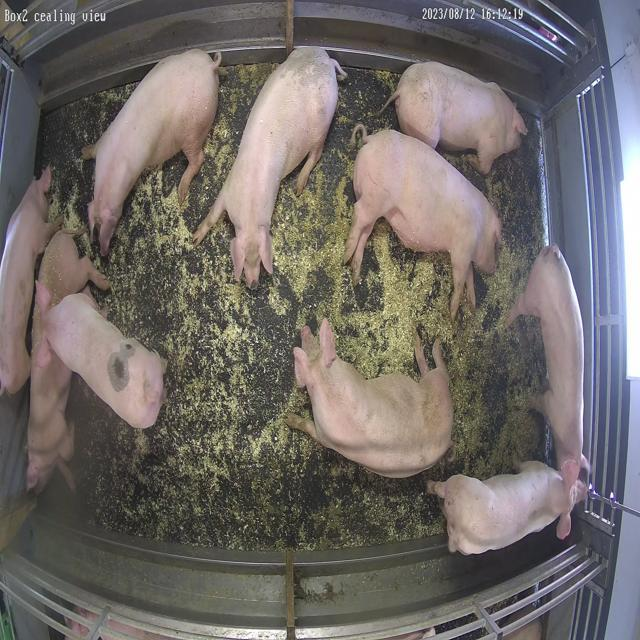Dirt: (443, 319, 553, 478)
Pig: (194, 47, 346, 286), (345, 125, 503, 318), (88, 48, 220, 256), (288, 319, 454, 479), (26, 230, 109, 494), (38, 283, 165, 428), (509, 245, 590, 470), (387, 61, 528, 174), (431, 461, 587, 556), (0, 167, 58, 394)
